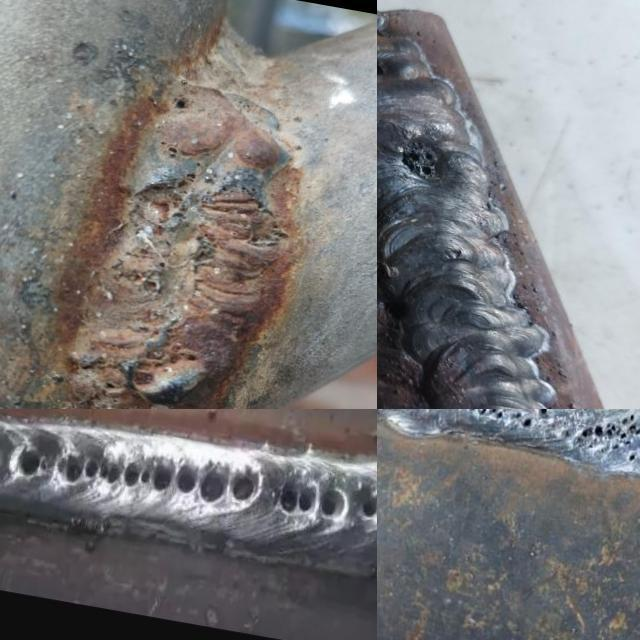defect: (52, 451, 258, 507), (212, 177, 282, 248), (128, 170, 200, 226), (569, 409, 640, 465), (274, 476, 351, 525), (131, 344, 200, 387), (398, 140, 449, 181), (190, 218, 227, 260), (121, 266, 165, 294), (15, 444, 44, 485), (381, 298, 411, 321), (156, 136, 184, 160), (169, 92, 194, 114), (358, 491, 377, 517), (99, 378, 122, 394), (377, 56, 390, 77), (77, 363, 97, 375)
